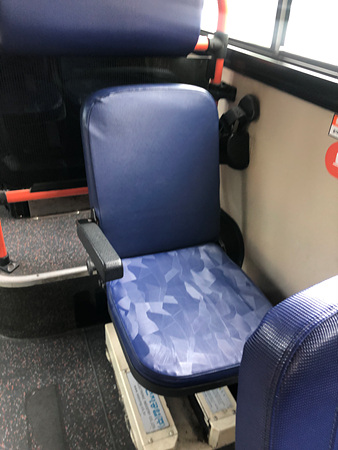seat: (85, 85, 271, 391)
